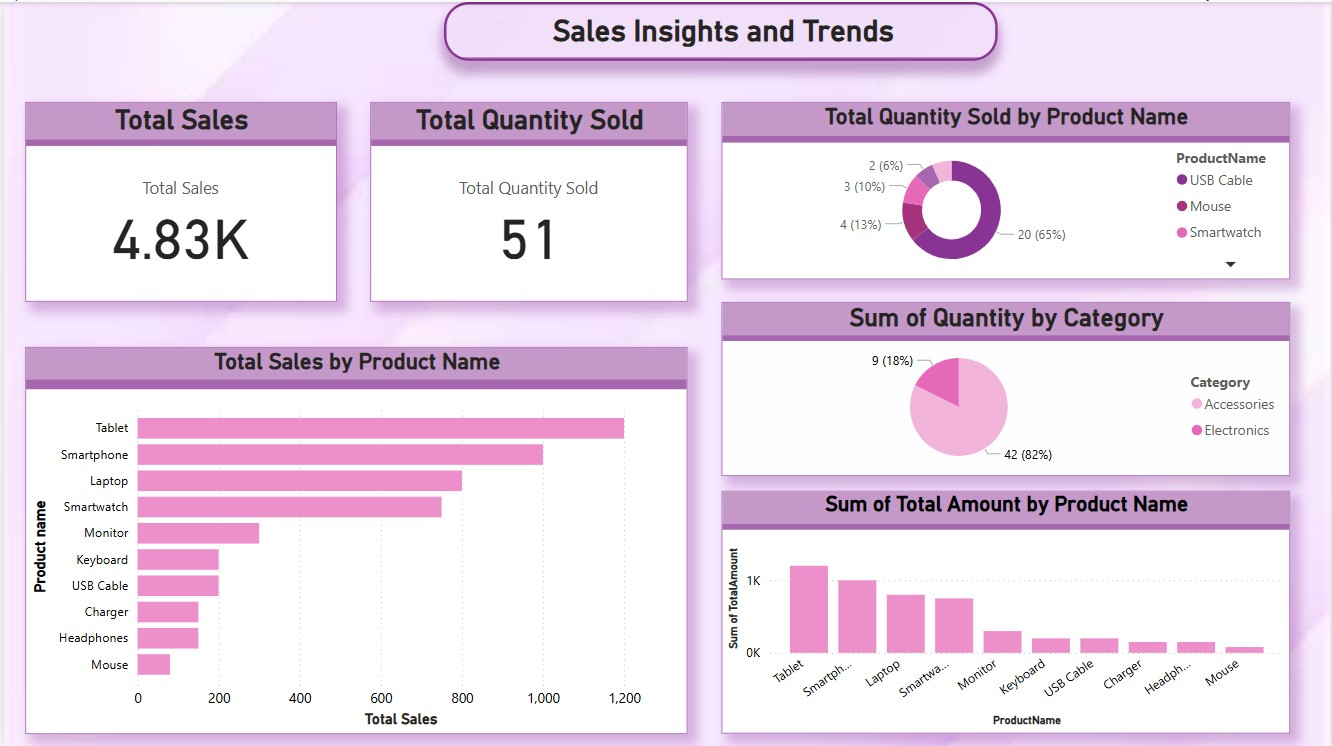

What the dashboard file says about the page in this screenshot:
{"tool":"powerbi","page":{"name":"Page 1","canvas":[1280,720],"ordinal":0},"visuals":[{"type":"cardVisual","title":"Total Sales","fields":{"Data":["Sales.Total Sales"]},"box":[20.5,96.5,300.4,193],"z":0},{"type":"cardVisual","title":"Total Quantity Sold","fields":{"Data":["Sales.Total Quantity Sold"]},"box":[353.5,96.5,306.4,193],"z":1000},{"type":"clusteredBarChart","title":"Total Sales by Product Name","fields":{"Category":["Sales.ProductName"],"Y":["Sales.Total Sales"]},"box":[20.9,332.6,639.5,373.3],"z":2000},{"type":"pieChart","fields":{"Category":["Sales.Category"],"Y":["Sum(Sales.Quantity)"]},"box":[692.5,289.5,548.9,167.7],"z":3000},{"type":"columnChart","title":"Sum of Total Amount by Product Name","fields":{"Y":["Sum(Sales.TotalAmount)"],"Category":["Sales.ProductName"]},"box":[692.5,471.7,548.9,234],"z":4000},{"type":"donutChart","title":"Total Quantity Sold by Product Name","fields":{"Category":["Sales.ProductName"],"Y":["Sales.Total Quantity Sold"]},"box":[692.5,96.5,548.9,171.3],"z":5000},{"type":"textbox","title":"Sales Insights and Trends","box":[424.7,0,534.5,56.7],"z":5001}]}

Visuals, with their boxes in screenshot pixels (x1, y1, x2, y2), scaled from the page's 1280x720 canvas onto the 1332x746 screenshot:
"Total Sales" cardVisual: BBox(21, 100, 334, 300)
"Total Quantity Sold" cardVisual: BBox(368, 100, 687, 300)
"Total Sales by Product Name" clusteredBarChart: BBox(22, 345, 687, 731)
pieChart - Sales.Category x Sum(Sales.Quantity): BBox(721, 300, 1292, 474)
"Sum of Total Amount by Product Name" columnChart: BBox(721, 489, 1292, 731)
"Total Quantity Sold by Product Name" donutChart: BBox(721, 100, 1292, 277)
"Sales Insights and Trends" textbox: BBox(442, 0, 998, 59)
